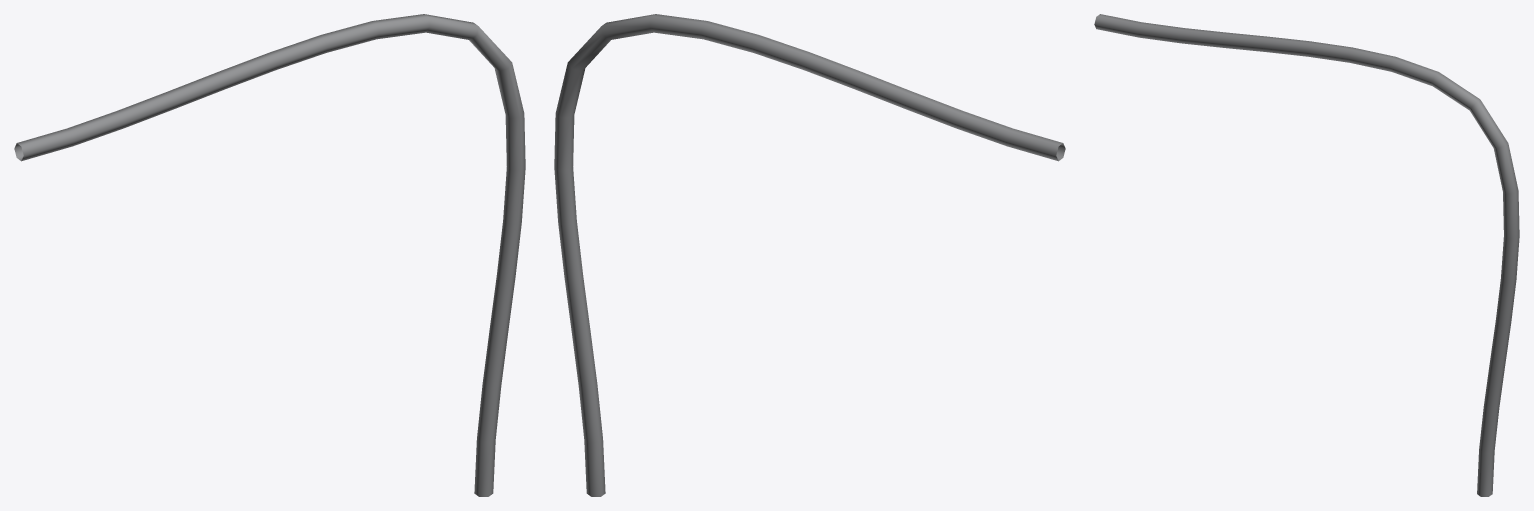
The picture shows the model from 3 angles, left to right: view 1: azimuth 30°, elevation 25°; view 2: azimuth 150°, elevation 25°; view 3: azimuth 330°, elevation 25°; orthographic projection. The views are drawn at different scales.
Bounding box in the file's own units: 1.05 × 0.9889 × 0.034.
